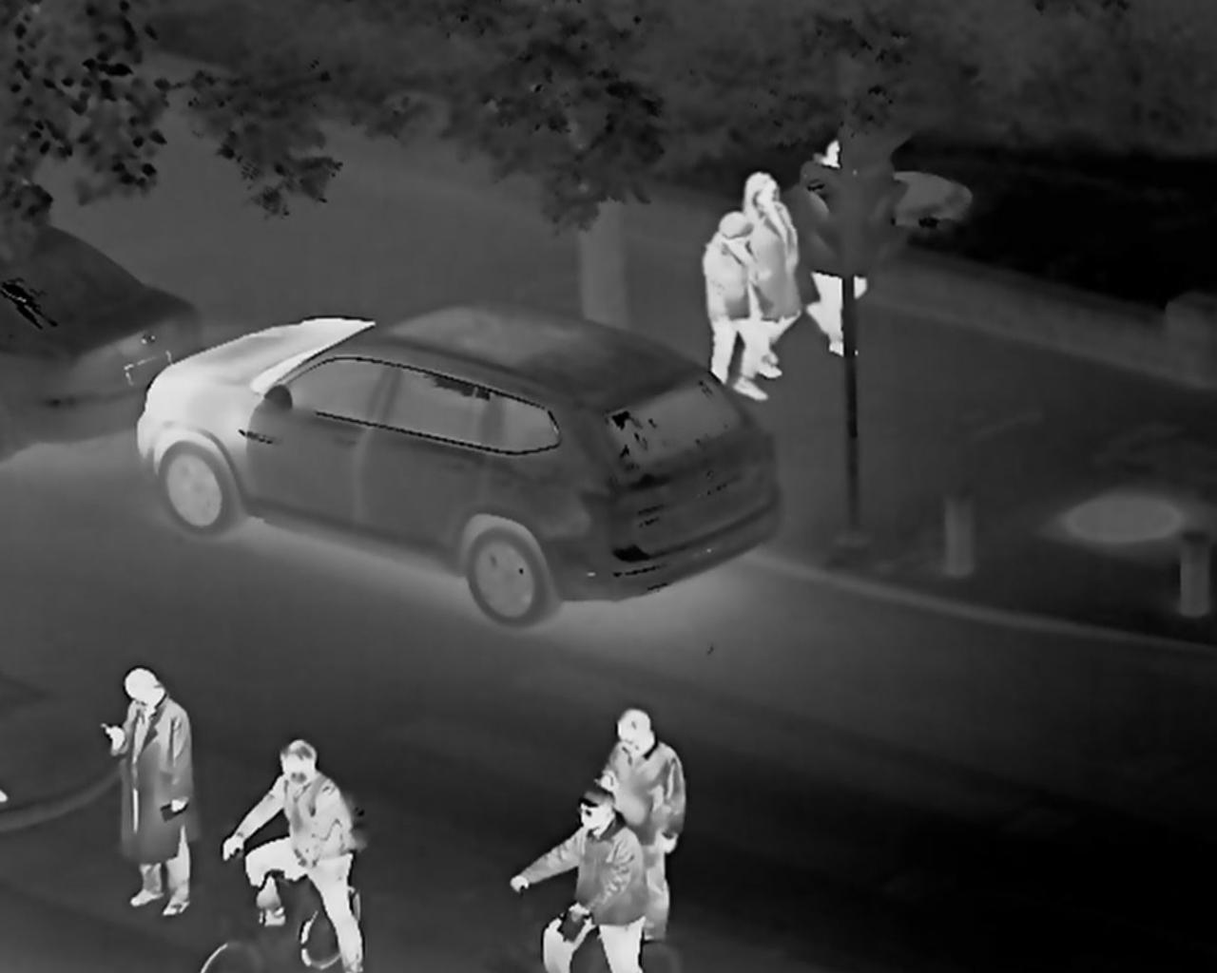person: (254, 696, 401, 960), (112, 637, 223, 895), (667, 179, 760, 413), (590, 684, 718, 851), (538, 822, 661, 964), (819, 143, 898, 351), (751, 157, 804, 317)
